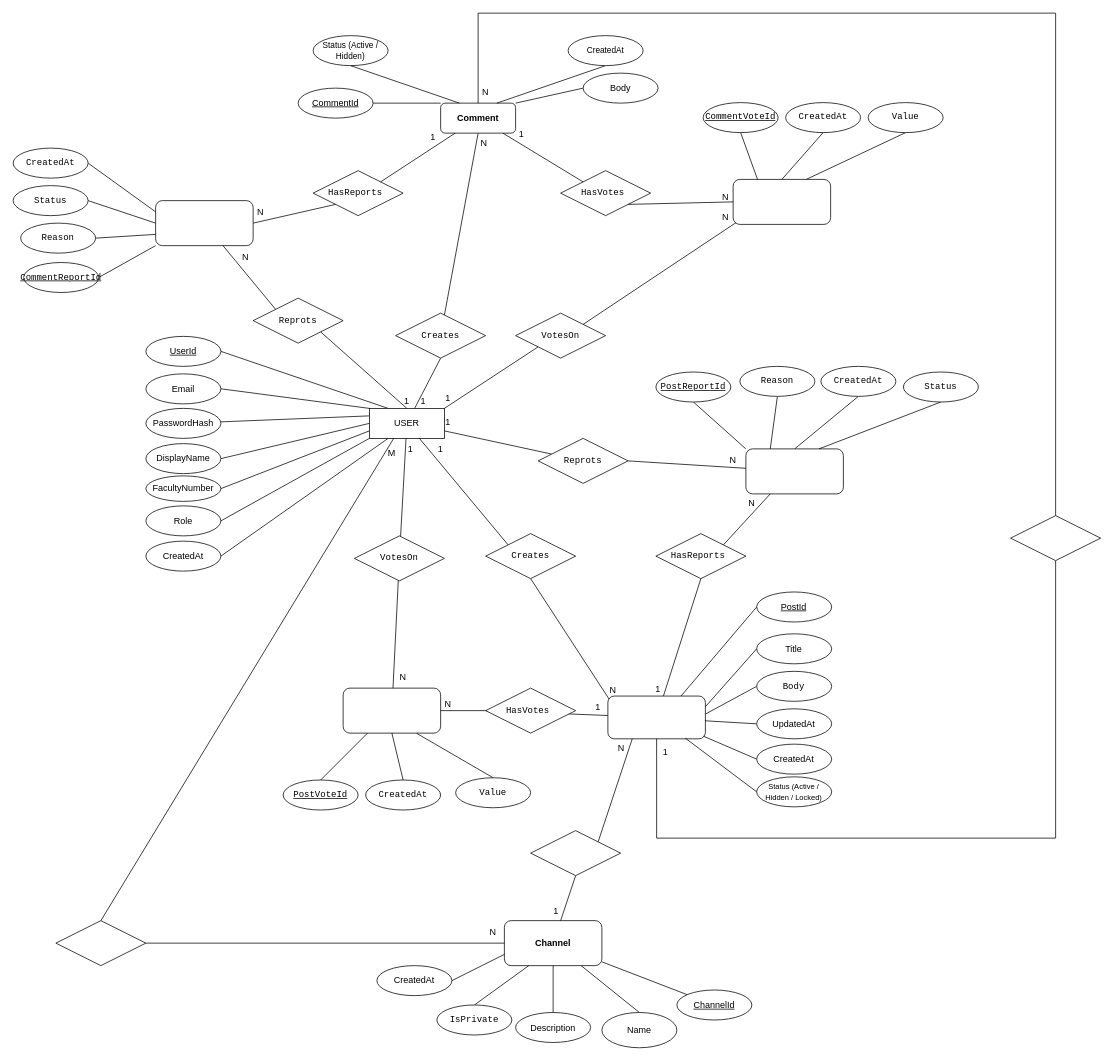
Image size: 1114x1061. Some labels were removed from this diagram. The shapes that lost their labels are listed below. From the top down, each one's box as (x1, y1, x2, y2) in pixels, then its label:
(732, 179, 831, 224): COMMENT_VOTE
(155, 200, 253, 246): COMMENT_REPORT
(745, 448, 843, 494): POST_REPORT
(1010, 515, 1101, 561): Has
(342, 687, 441, 733): POST_VOTE
(607, 695, 705, 739): Post
(530, 830, 621, 876): Contains
(55, 920, 146, 966): IsMemberOf
